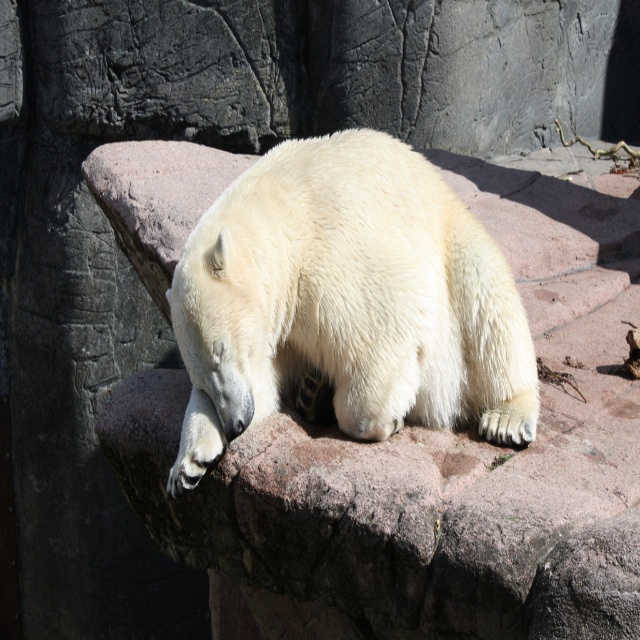Polar bear: (163, 123, 542, 494)
